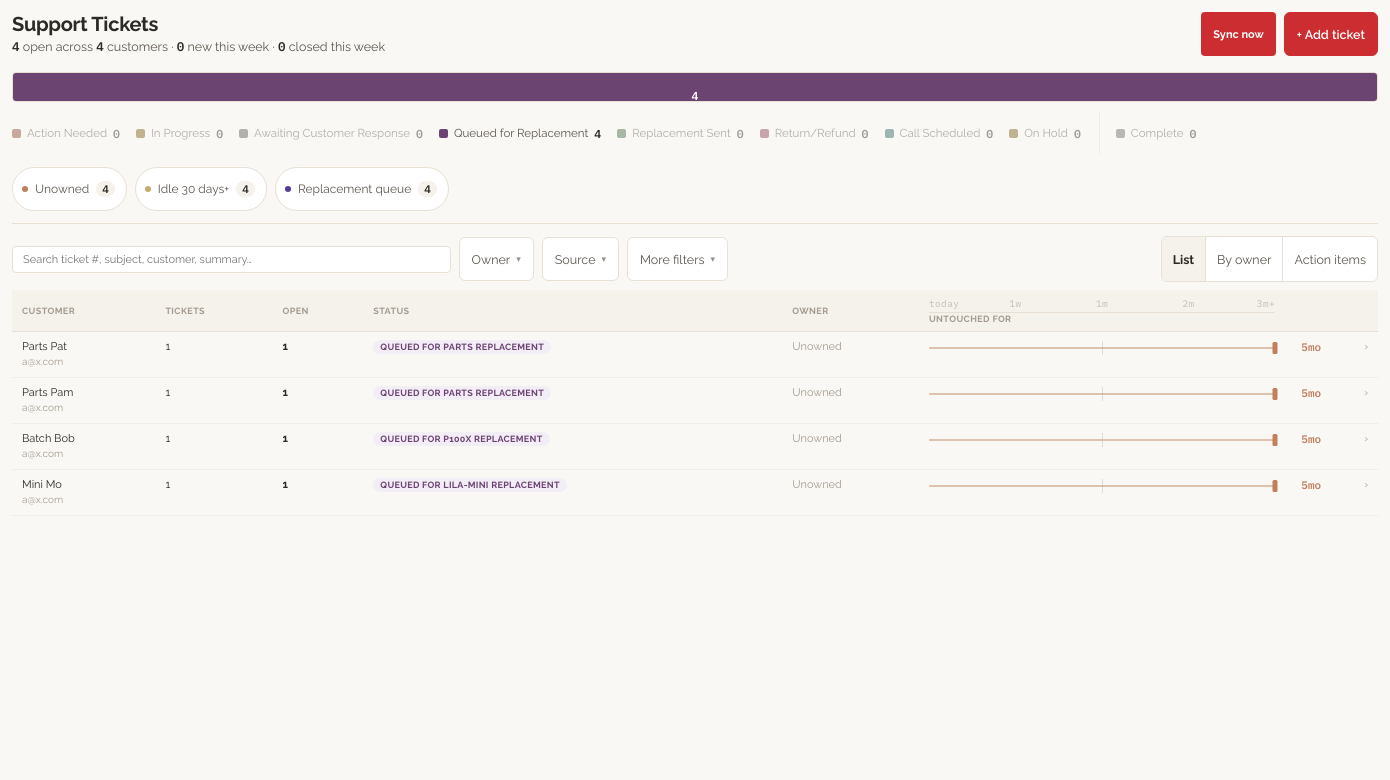
Test case: SupportTab — parts vs batch replacement chips › narrows to a single batch, excluding the other batch and parts
This screenshot has width=1390, height=780.
What coordinates should you click on to do the following:
click the button "Replacement queue 4"
I would click on:
 (362, 189)
Its box is [275,167,449,211].
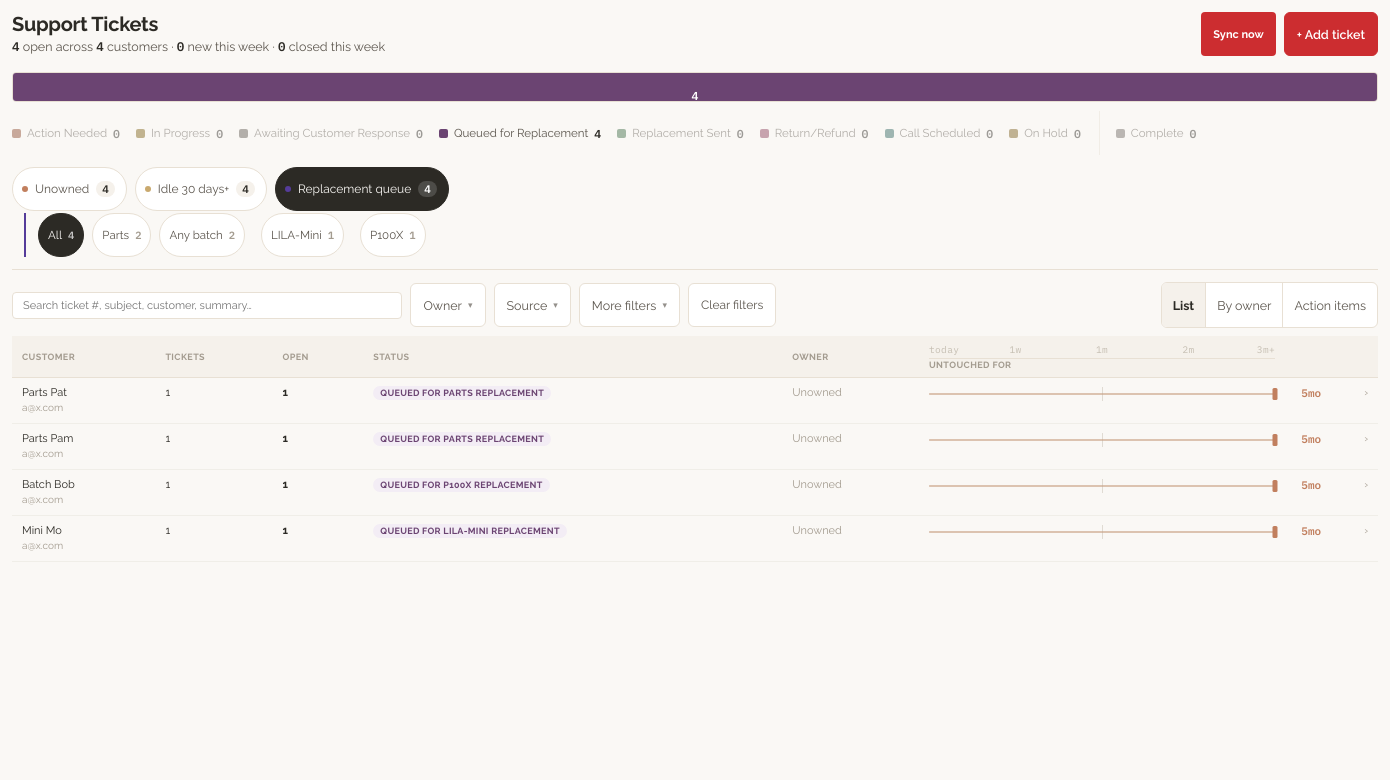
What coordinates should you click on to do the following:
click the button named "P100X1"
I would click on:
 (393, 235)
Its box is [360,213,426,257].
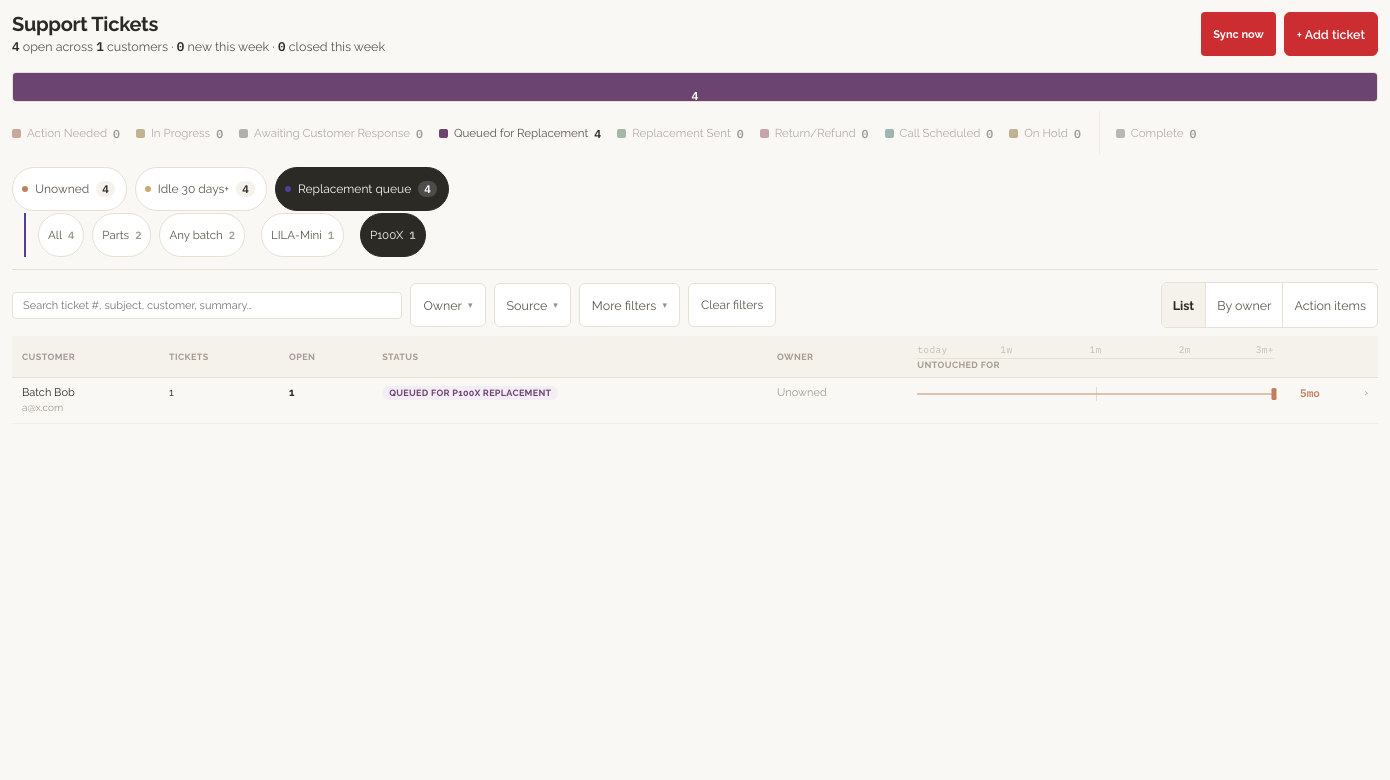
Check: the table shows "Batch Bob", box [22,386,75,399]
Check: the text "Mini Mo" is gone
Check: the text "Parts Pat" is gone
